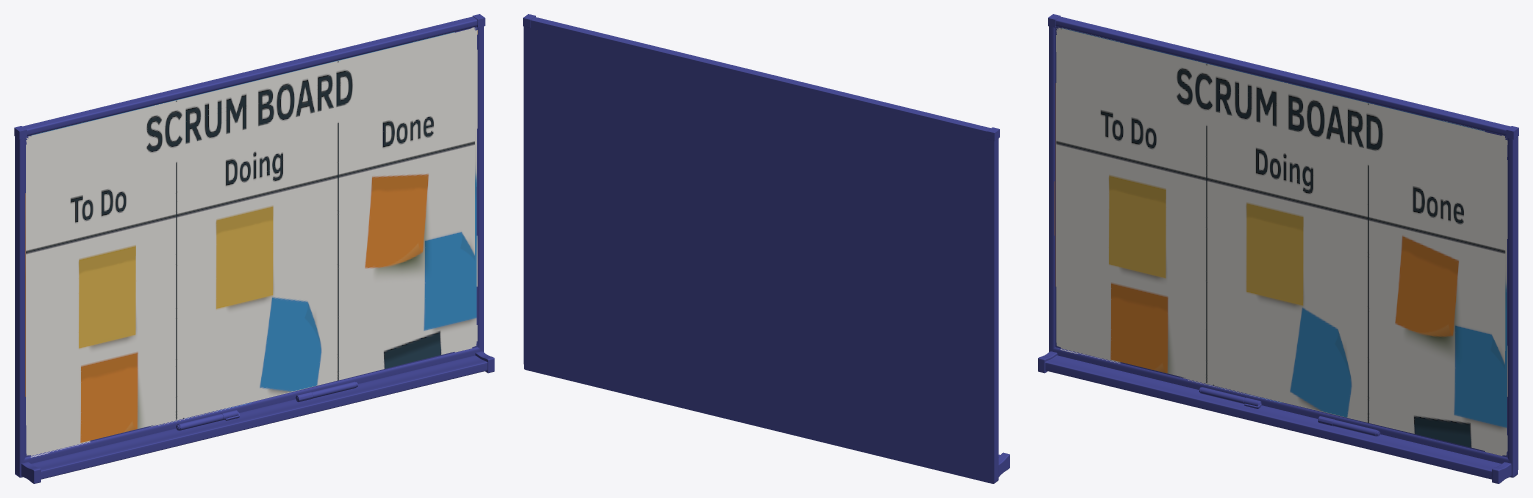
File: ScrumBoard_object.fbx
3 views of the same model, side by side, from view 1: azimuth 30°, elevation 25°; view 2: azimuth 150°, elevation 25°; view 3: azimuth 330°, elevation 25° (orthographic).
Parts seen in each view (by area): view 1: 16737_dry_erase_board_V1; view 2: 16737_dry_erase_board_V1; view 3: 16737_dry_erase_board_V1.
Boxes of the visible parts, box(x1,y1,x2,y2) form: 16737_dry_erase_board_V1: box(14, 14, 494, 483); 16737_dry_erase_board_V1: box(523, 14, 1009, 483); 16737_dry_erase_board_V1: box(1038, 14, 1518, 483).
Size of the model in its own units: 140 by 99.91 by 9.21.
